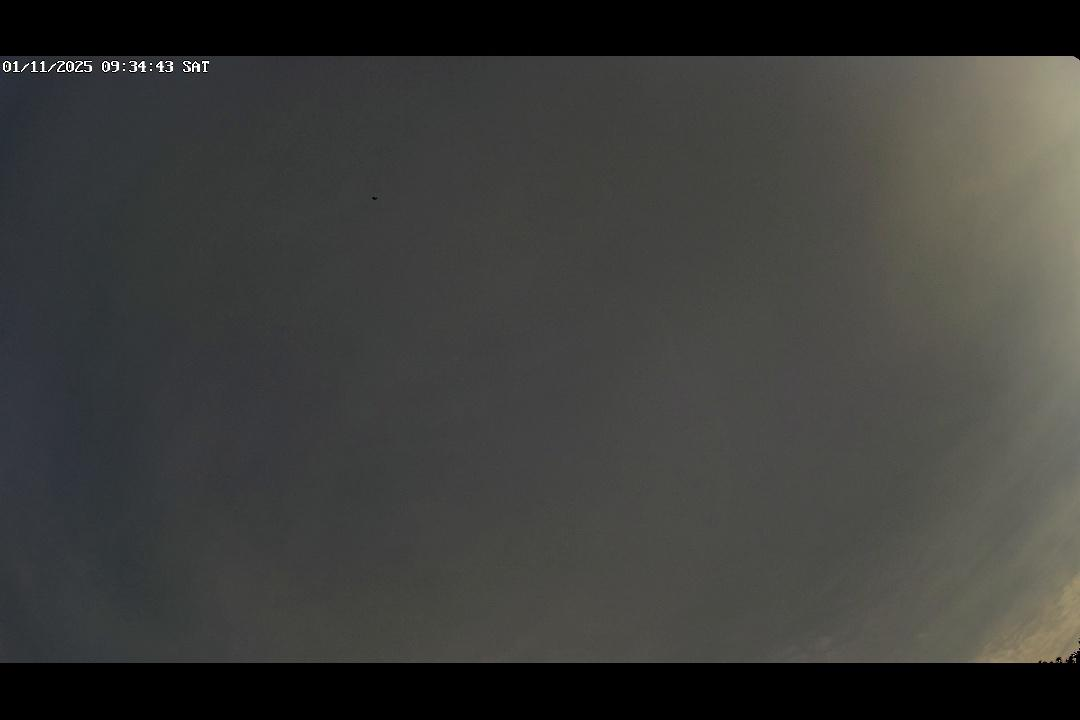WildLife: (361, 191, 387, 204)
